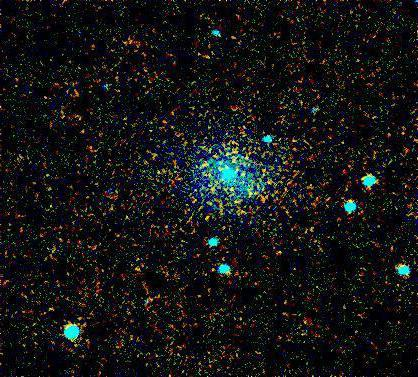star: (207, 143, 237, 173)
